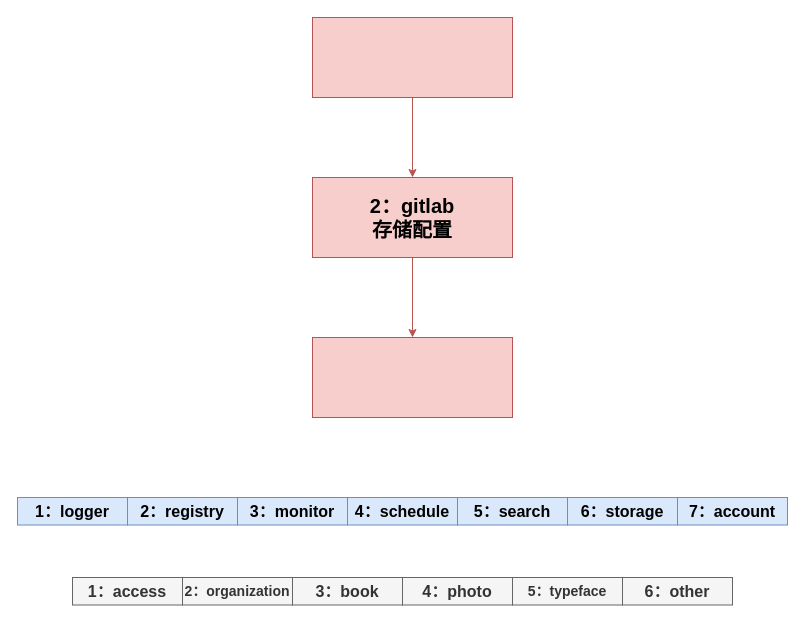
Some shapes in this 805 by 623 pixel diagram are drawn without their labels. The centre of each missing label's shape, as x and y in pixels:
1：configuration 规划与配置: point (412, 57)
3：configServer 手动配置: point (412, 377)
